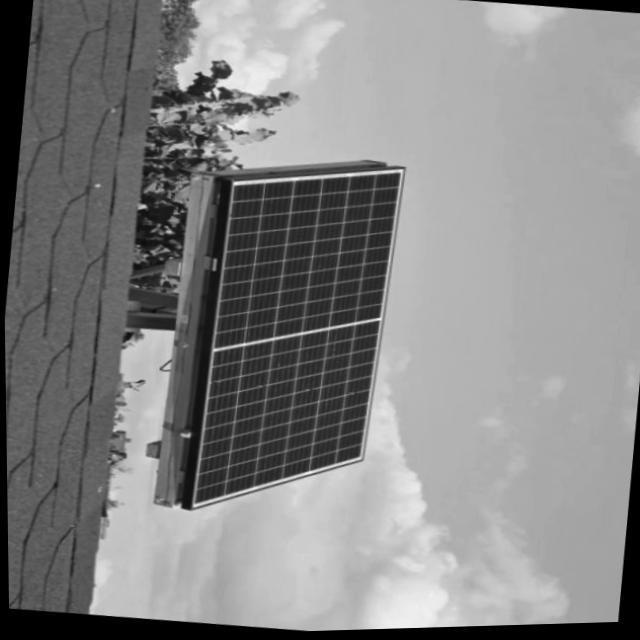Normal Solar Panel: (176, 151, 404, 530)
